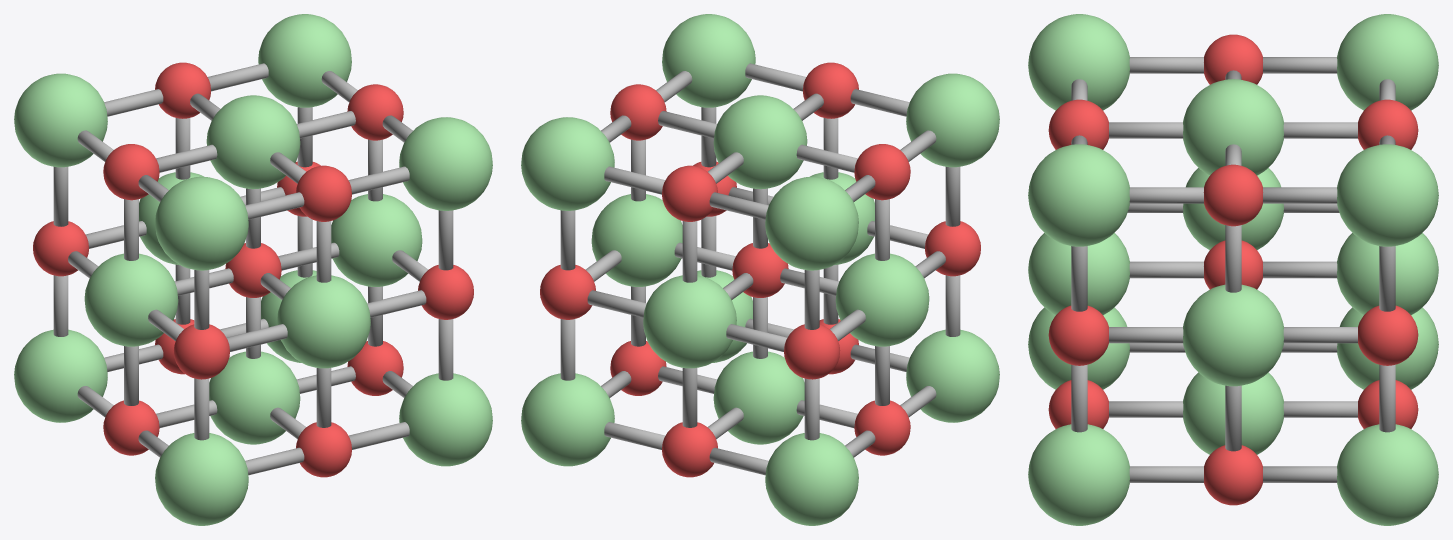
File: BaO_Structure.glb
3 renders of one model, left to right at view 1: azimuth 30°, elevation 25°; view 2: azimuth 150°, elevation 25°; view 3: azimuth 270°, elevation 25°, orthographic. The views are drawn at different scales.
Parts seen in each view (by area): view 1: Sphere.002, Sphere, Sphere.020, Sphere.018, Sphere.010, Sphere.008, Sphere.004, Sphere.006, Sphere.014, Sphere.026, Sphere.012, Sphere.022 (+55 smaller); view 2: Sphere.008, Sphere.006, Sphere.026, Sphere.024, Sphere.016, Sphere.002, Sphere.004, Sphere, Sphere.014, Sphere.020, Sphere.012, Sphere.022 (+55 smaller); view 3: Sphere.020, Sphere.026, Sphere.018, Sphere.024, Sphere.022, Sphere.002, Sphere.008, Sphere.014, Sphere.010, Sphere.016, Sphere.012, Sphere.006 (+36 smaller).
Part boxes in pixels (left/top/right/bottom): Sphere.002: left=155, top=176, right=248, bottom=270; Sphere: left=155, top=433, right=248, bottom=525; Sphere.020: left=399, top=117, right=492, bottom=210; Sphere.018: left=399, top=373, right=492, bottom=466; Sphere.010: left=277, top=275, right=370, bottom=368; Sphere.008: left=14, top=73, right=107, bottom=167; Sphere.004: left=84, top=253, right=178, bottom=346; Sphere.006: left=14, top=329, right=107, bottom=422; Sphere.014: left=206, top=95, right=300, bottom=189; Sphere.026: left=258, top=14, right=351, bottom=107; Sphere.012: left=209, top=351, right=300, bottom=444; Sphere.022: left=331, top=194, right=422, bottom=286; Sphere.008: left=765, top=176, right=858, bottom=270; Sphere.006: left=765, top=433, right=858, bottom=525; Sphere.026: left=521, top=117, right=614, bottom=210; Sphere.024: left=521, top=373, right=614, bottom=466; Sphere.016: left=643, top=275, right=736, bottom=368; Sphere.002: left=906, top=73, right=999, bottom=167; Sphere.004: left=835, top=253, right=929, bottom=346; Sphere: left=906, top=329, right=999, bottom=422; Sphere.014: left=713, top=95, right=807, bottom=189; Sphere.020: left=662, top=14, right=755, bottom=107; Sphere.012: left=713, top=351, right=804, bottom=444; Sphere.022: left=591, top=194, right=682, bottom=286; Sphere.020: left=1028, top=144, right=1129, bottom=246; Sphere.026: left=1337, top=144, right=1438, bottom=246; Sphere.018: left=1028, top=424, right=1129, bottom=525; Sphere.024: left=1337, top=424, right=1438, bottom=525; Sphere.022: left=1183, top=284, right=1283, bottom=386; Sphere.002: left=1028, top=14, right=1129, bottom=110; Sphere.008: left=1337, top=14, right=1438, bottom=110; Sphere.014: left=1183, top=79, right=1283, bottom=175; Sphere.010: left=1028, top=233, right=1129, bottom=315; Sphere.016: left=1337, top=233, right=1438, bottom=315; Sphere.012: left=1183, top=372, right=1283, bottom=454; Sphere.006: left=1337, top=307, right=1438, bottom=389.
Size of the model in its own units: 4 by 4 by 4.
